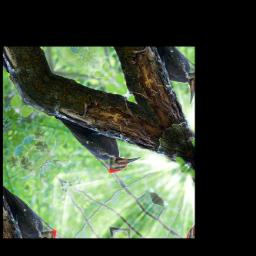Woodpecker: (51, 94, 142, 183)
